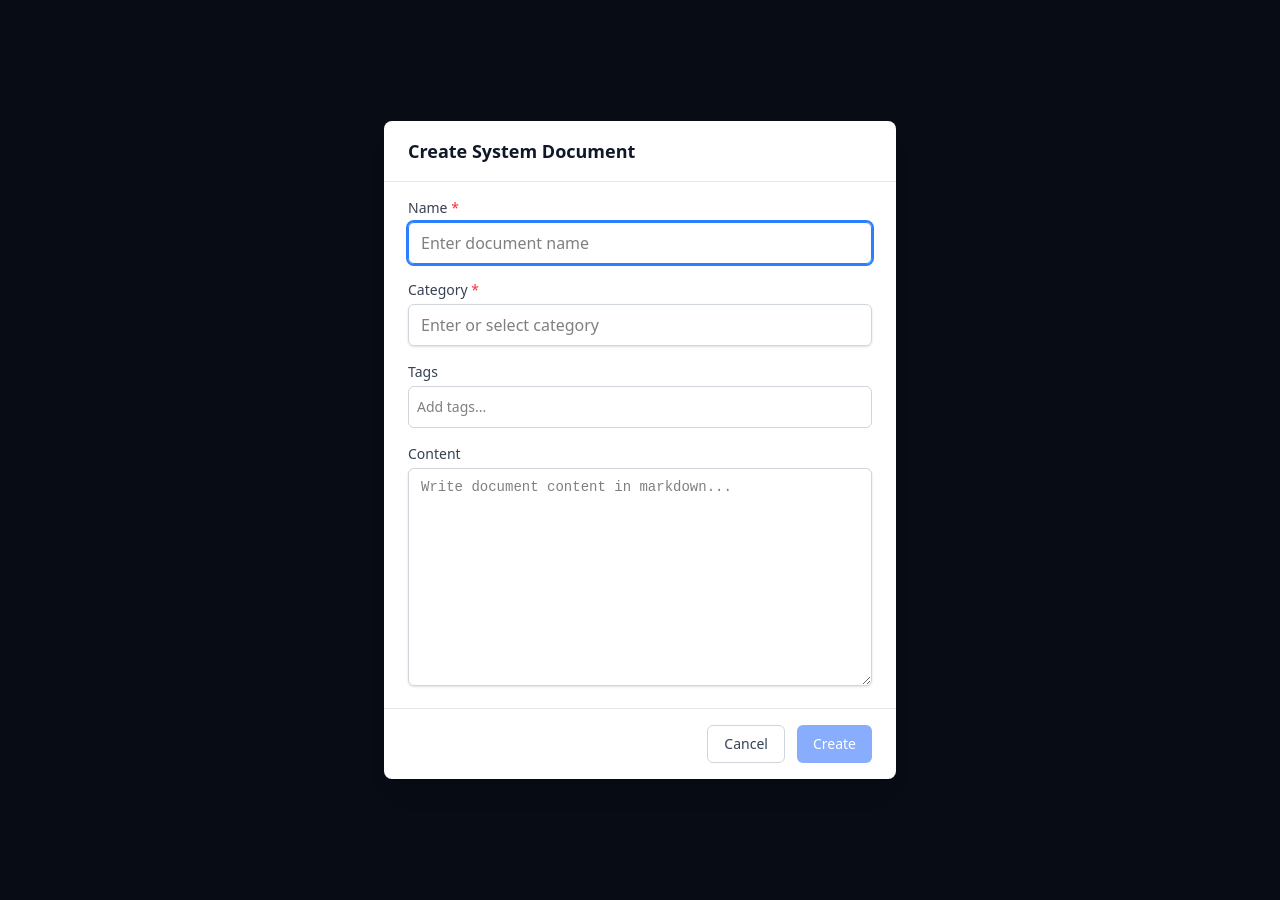
Test: SystemCreateModal › Form Interactions › should enable create button when name and category filled
Type "Combat System" into the field labelled "Name *".
click(640, 243); type("Combat System")  # box left=408, top=222, right=872, bottom=264
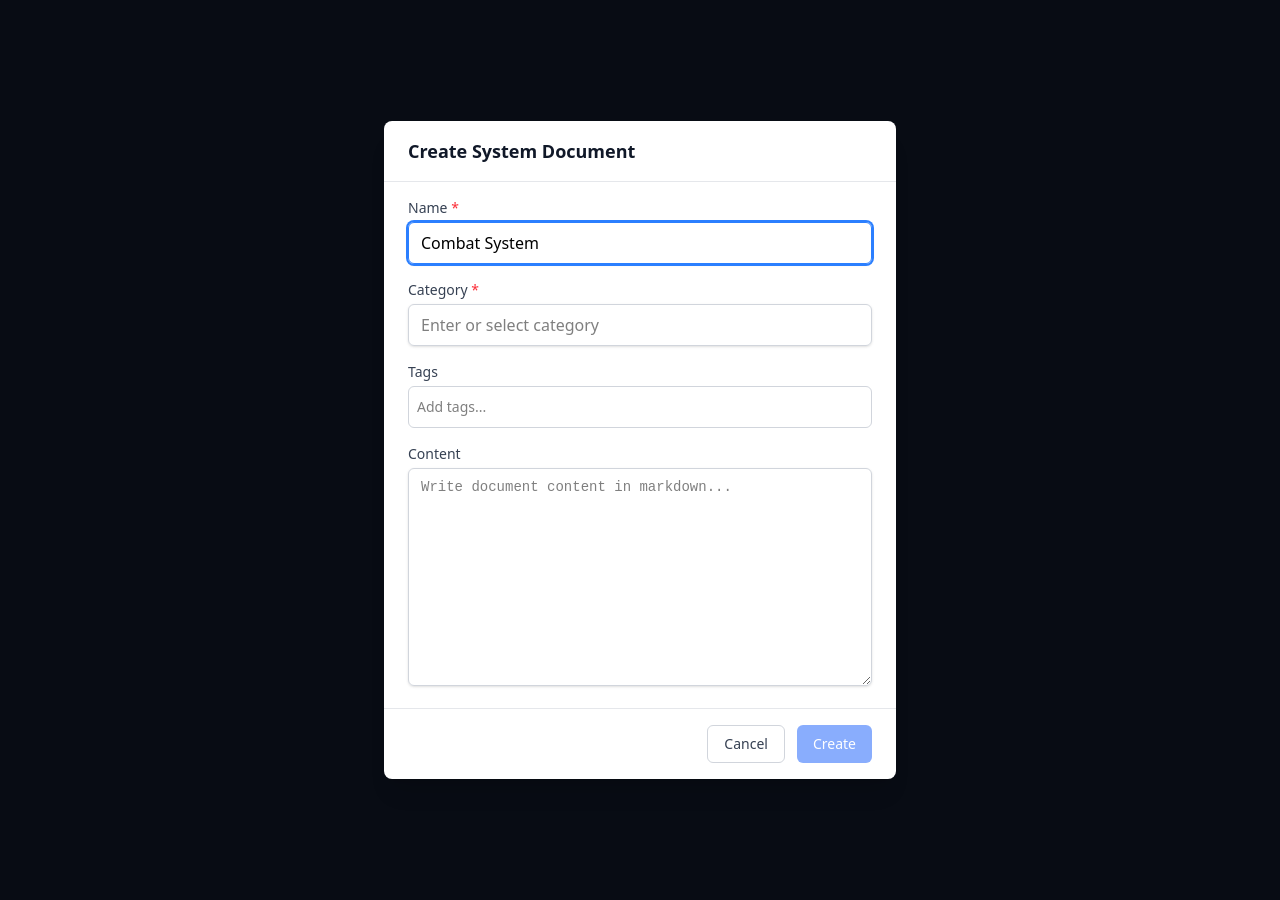
Type "Core Mechanics" into the field labelled "Category *".
click(640, 325); type("Core Mechanics")  # box left=408, top=304, right=872, bottom=346
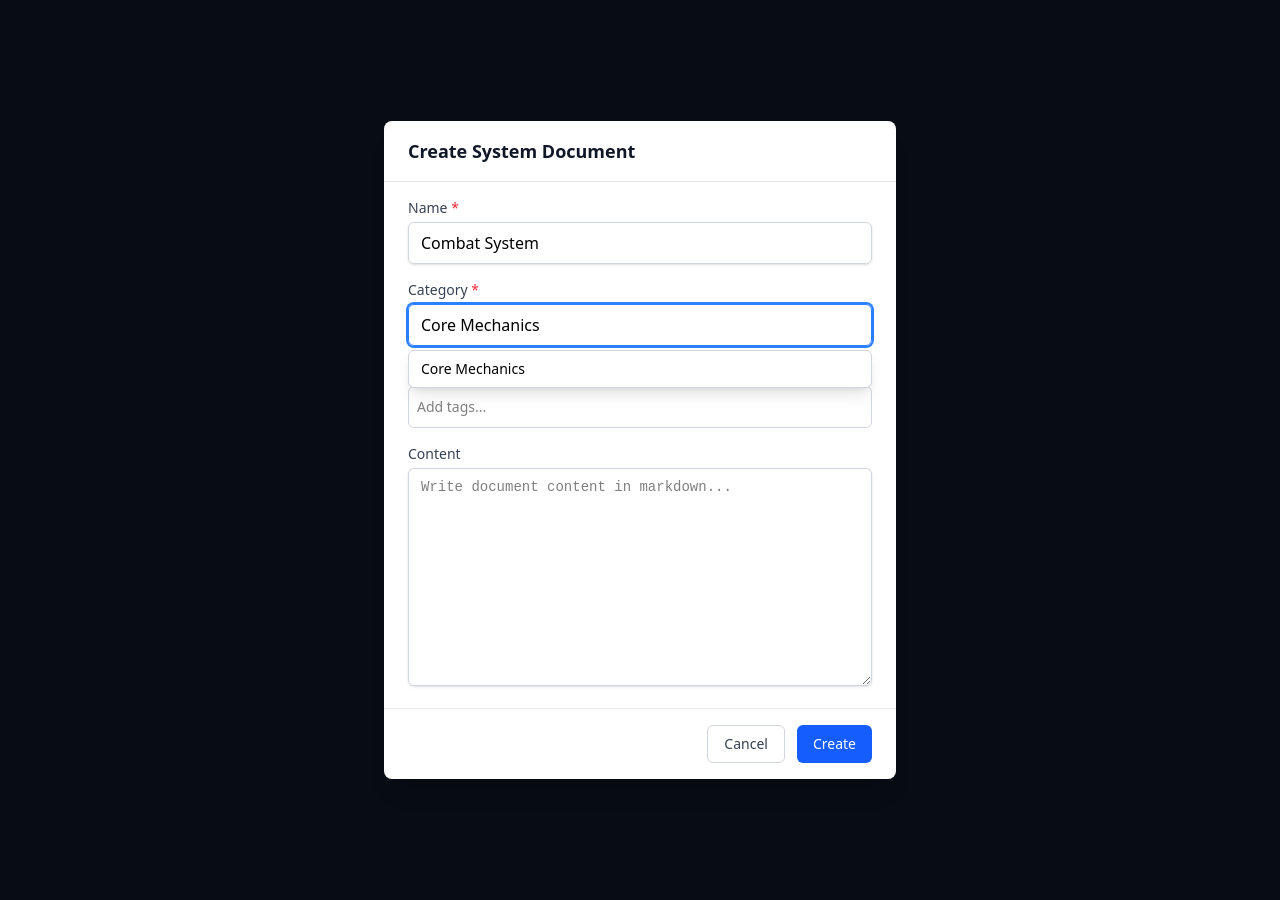
Now the button "Create" is enabled, box left=797, top=725, right=872, bottom=763
